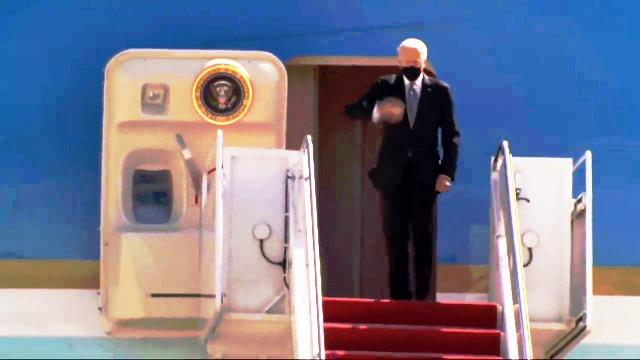berdiri: (340, 34, 470, 308)
